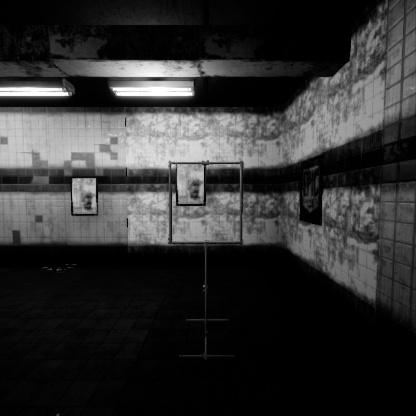gate: (169, 171, 250, 255)
